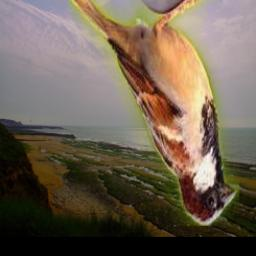Sparrow: (68, 0, 239, 227)
